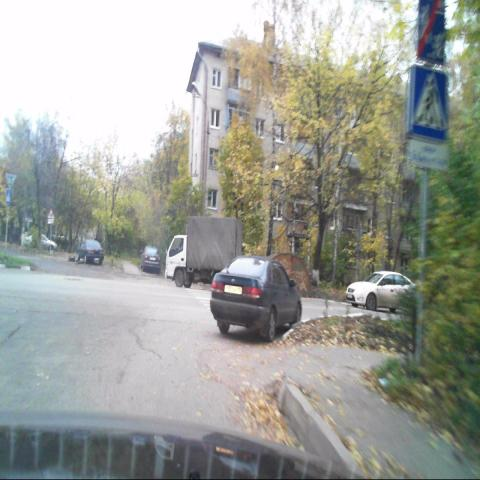5_22: (417, 0, 446, 66)
